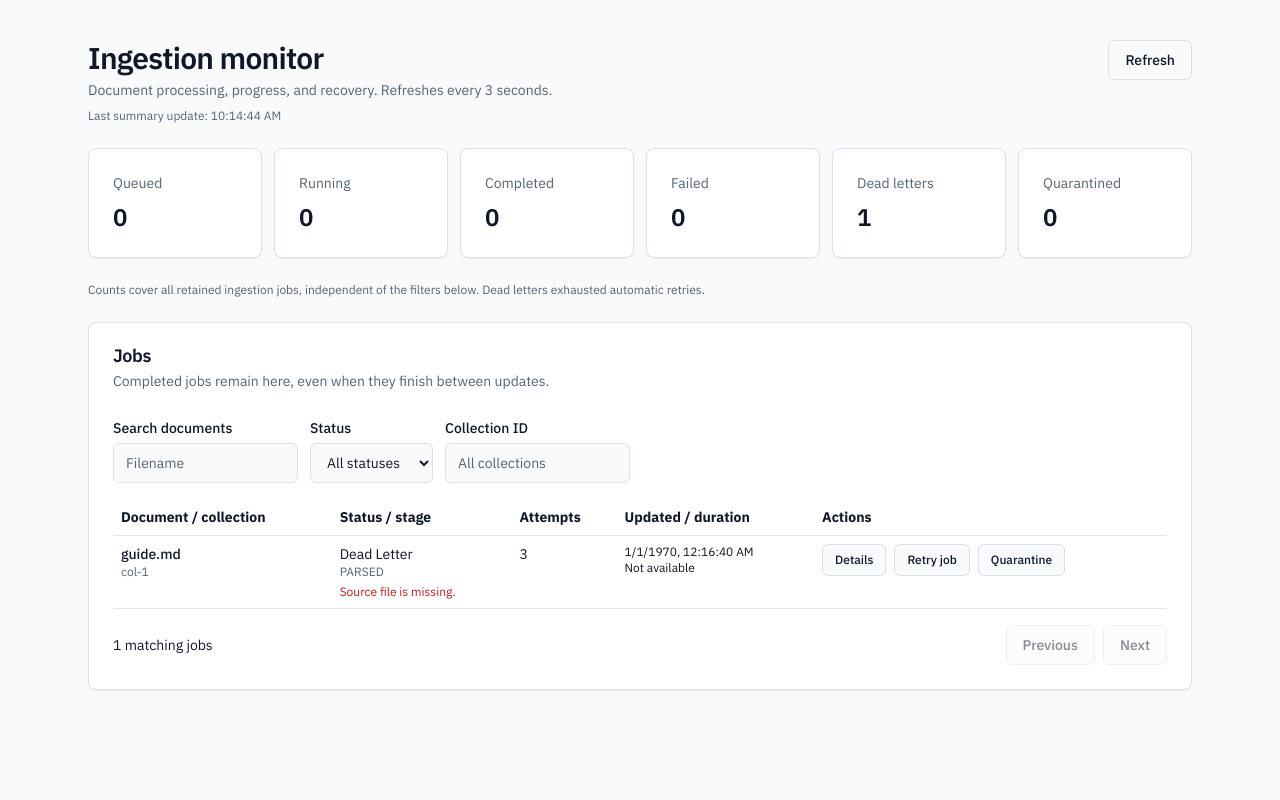
Test case: shows real job errors and retries the selected job
expect the text "guide.md" is shown: met, box 121,545 -> 181,563
expect the text "Source file is missing." is shown: met, box 340,584 -> 456,599
Click the button "Retry job".
click(932, 560)  # box 894,544 -> 970,576
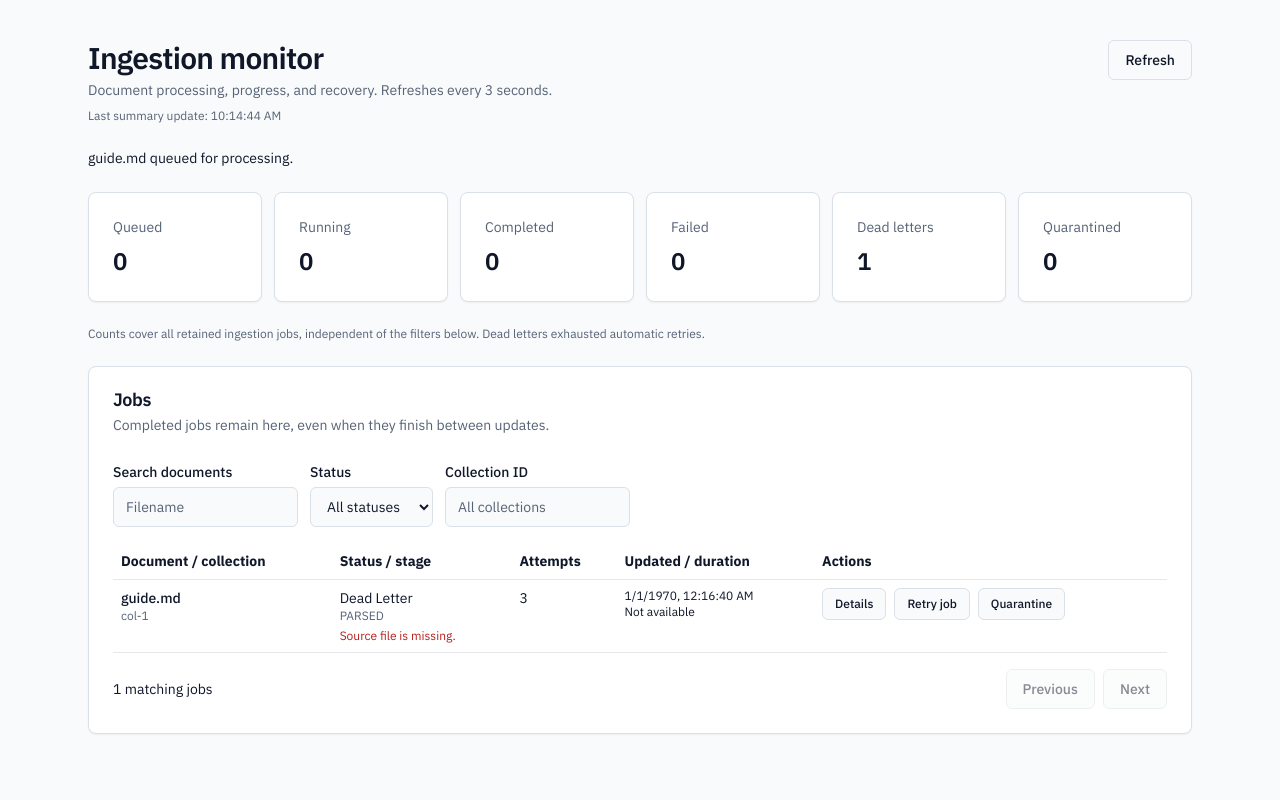
expect the text "guide.md queued for processing." is shown: met, box 88,149 -> 293,167
